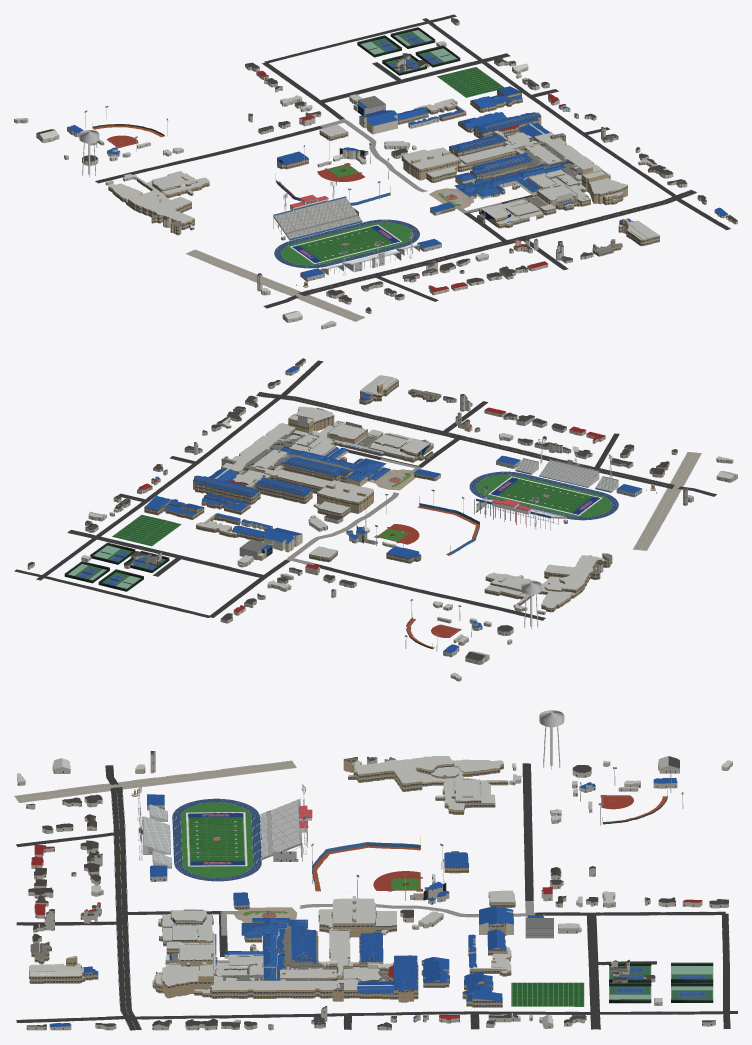
File: wmhs-v3-partB-roads-buildings-stadium-fields.glb
The picture shows the model from 3 angles, top to bottom: view 1: azimuth 30°, elevation 25°; view 2: azimuth 150°, elevation 25°; view 3: azimuth 270°, elevation 25°; orthographic projection. The views are drawn at different scales.
Parts seen in each view (by area): view 1: Buildings_LiDAR, Roads, Stadium_FieldTrackStands, BallFields_Tennis_Practice_SportsMed, Landmarks_Boardwalk_Plaza_Marquee; view 2: Buildings_LiDAR, Roads, Stadium_FieldTrackStands, BallFields_Tennis_Practice_SportsMed, Landmarks_Boardwalk_Plaza_Marquee; view 3: Buildings_LiDAR, Roads, Stadium_FieldTrackStands, BallFields_Tennis_Practice_SportsMed, Landmarks_Boardwalk_Plaza_Marquee.
Part boxes in pixels (box(x1,y1,x2,y2)): Buildings_LiDAR: box(14, 18, 737, 329); Roads: box(95, 14, 730, 321); Stadium_FieldTrackStands: box(273, 194, 419, 275); BallFields_Tennis_Practice_SportsMed: box(79, 27, 504, 205); Landmarks_Boardwalk_Plaza_Marquee: box(296, 165, 564, 287); Buildings_LiDAR: box(27, 358, 737, 681); Roads: box(14, 360, 716, 620); Stadium_FieldTrackStands: box(469, 458, 618, 530); BallFields_Tennis_Practice_SportsMed: box(64, 489, 541, 651); Landmarks_Boardwalk_Plaza_Marquee: box(280, 447, 656, 493); Buildings_LiDAR: box(17, 751, 732, 1030); Roads: box(14, 760, 737, 1030); Stadium_FieldTrackStands: box(142, 798, 312, 881); BallFields_Tennis_Practice_SportsMed: box(311, 710, 713, 1006); Landmarks_Boardwalk_Plaza_Marquee: box(131, 789, 308, 979).
Bounding box in the file's own units: 568 × 54.7 × 643.
Materials: 69 (38 with a texture image).
